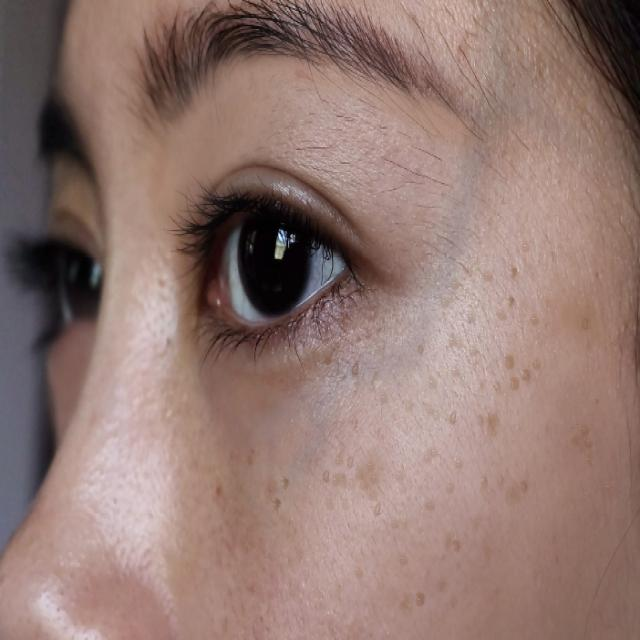Dark-Spots: (198, 231, 596, 631)
